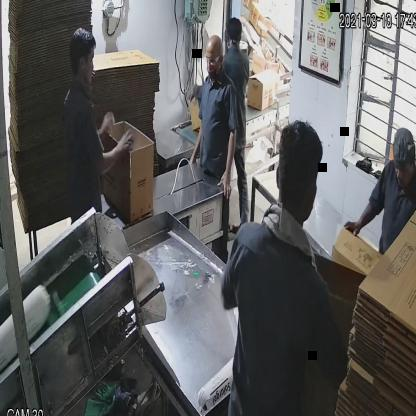no_glove: (86, 130, 138, 182), (217, 124, 240, 202), (343, 198, 380, 246)
